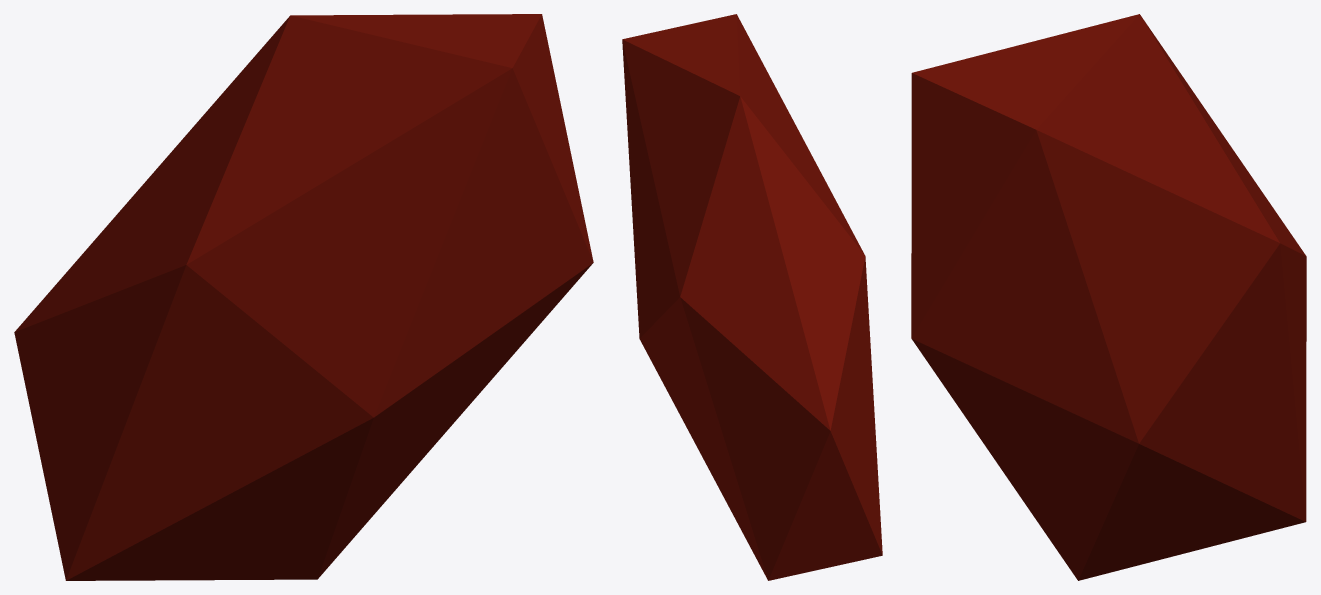
File: Platonic_19.gltf
3 views of the same model, side by side, from view 1: azimuth 30°, elevation 25°; view 2: azimuth 150°, elevation 25°; view 3: azimuth 270°, elevation 25° (orthographic). The views are drawn at different scales.
Visible parts, largest first — view 1: Platonic_19; view 2: Platonic_19; view 3: Platonic_19.
Part boxes in pixels (bbox=[...]): Platonic_19: bbox=[14, 14, 593, 580]; Platonic_19: bbox=[622, 14, 882, 580]; Platonic_19: bbox=[911, 14, 1306, 580].
Size of the model in its own units: 27.81 by 35.42 by 22.33.
